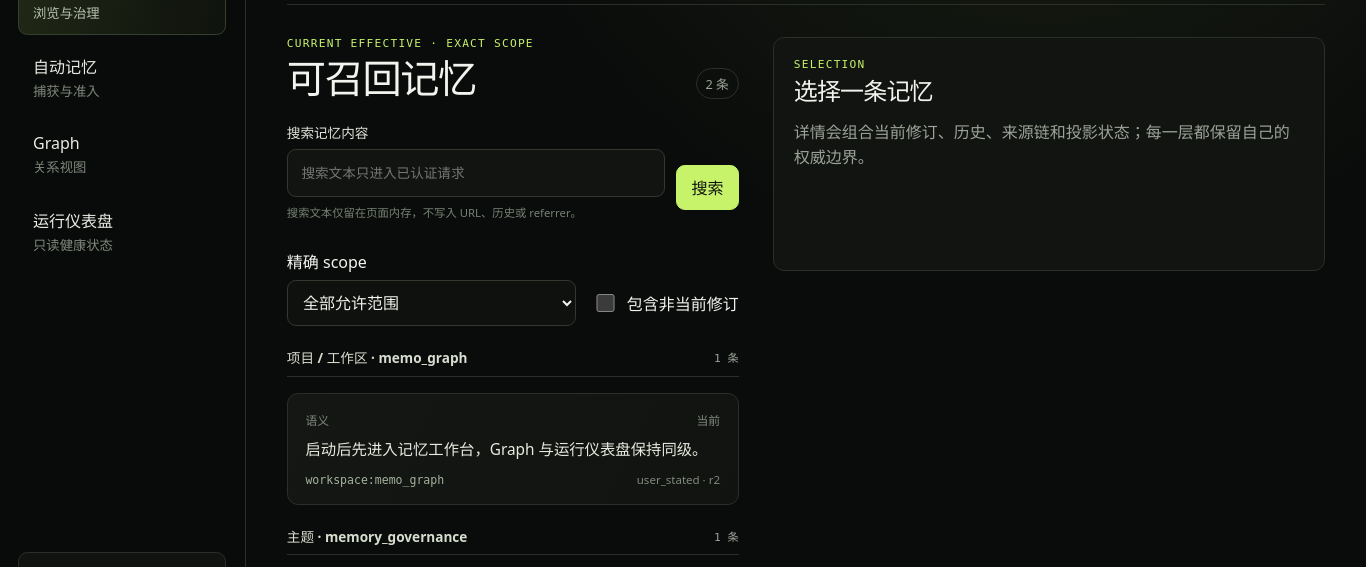
it: authority-first Runtime dashboard › keeps canonical authority primary and renders subordinate observations without controls
Click the link "运行仪表盘 只读健康状态" at (73, 232), box 33,210 -> 113,254
(page scrolled)
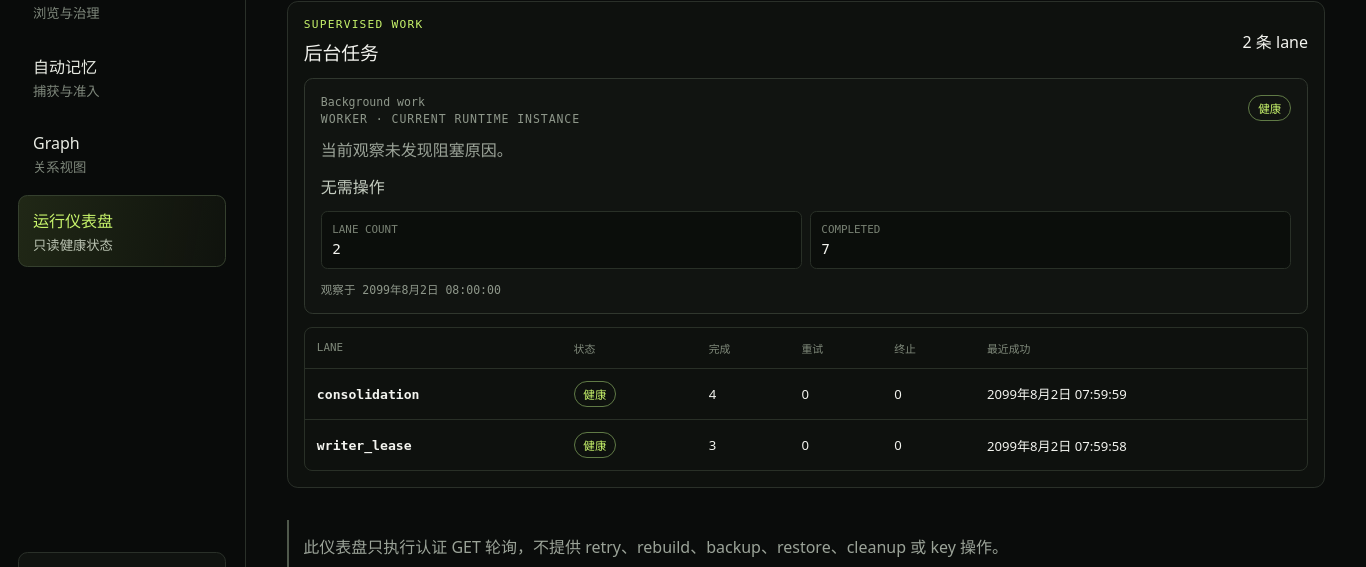
Check: the table named "后台任务的内容无关运行指标" is shown, box 305,328 -> 1307,470
Check: the text "writer_lease" is shown, box 317,438 -> 412,453
Check: the text "只执行认证 GET 轮询" is shown, box 303,536 -> 1008,558
